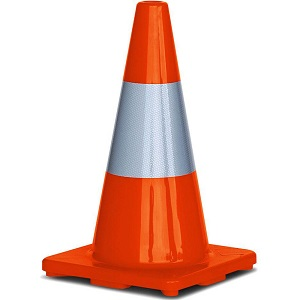traffic cone: (42, 1, 256, 289)
